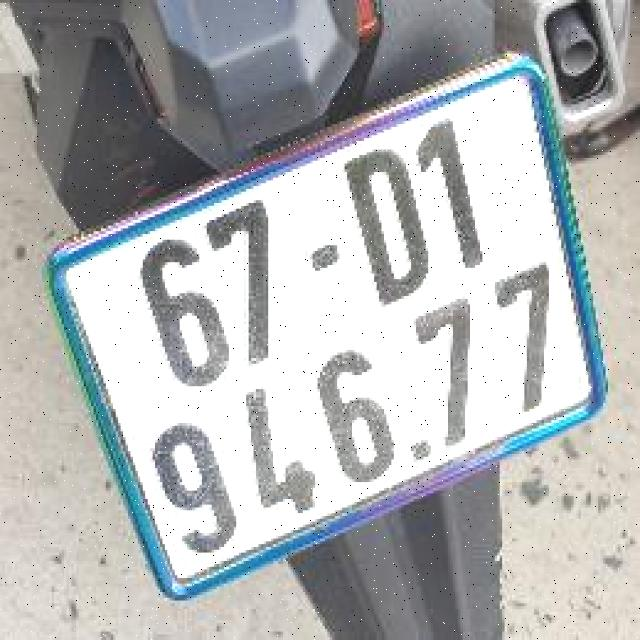1: (410, 111, 492, 282)
4: (221, 369, 328, 532)
6: (127, 223, 243, 407), (300, 332, 408, 498)
7: (199, 190, 311, 375), (402, 289, 500, 457), (483, 253, 577, 422)
9: (138, 408, 251, 568)
D: (338, 134, 444, 314)
